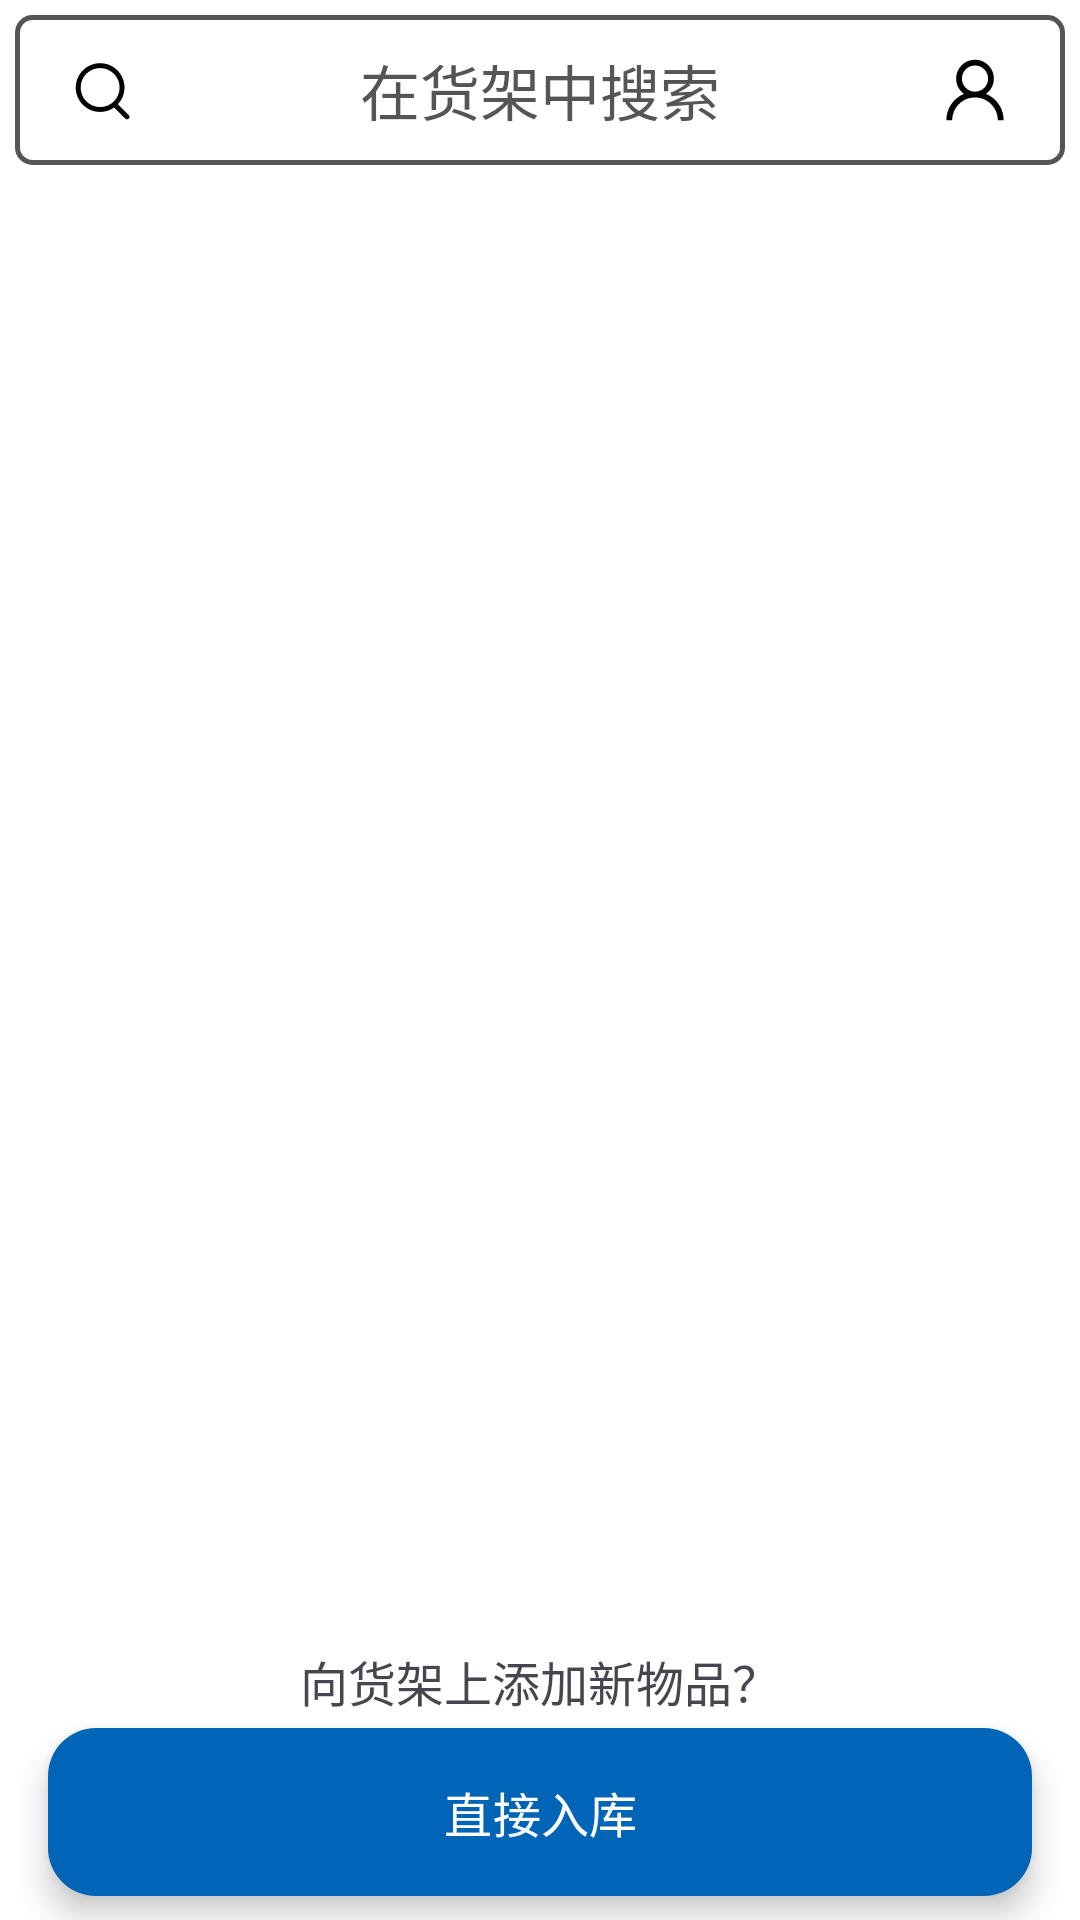

Icons on this 1080px×1920px Android screen, each with the point to tap as (x=x, y=y):
search: (x=102, y=91)
个人信息: (x=975, y=90)
